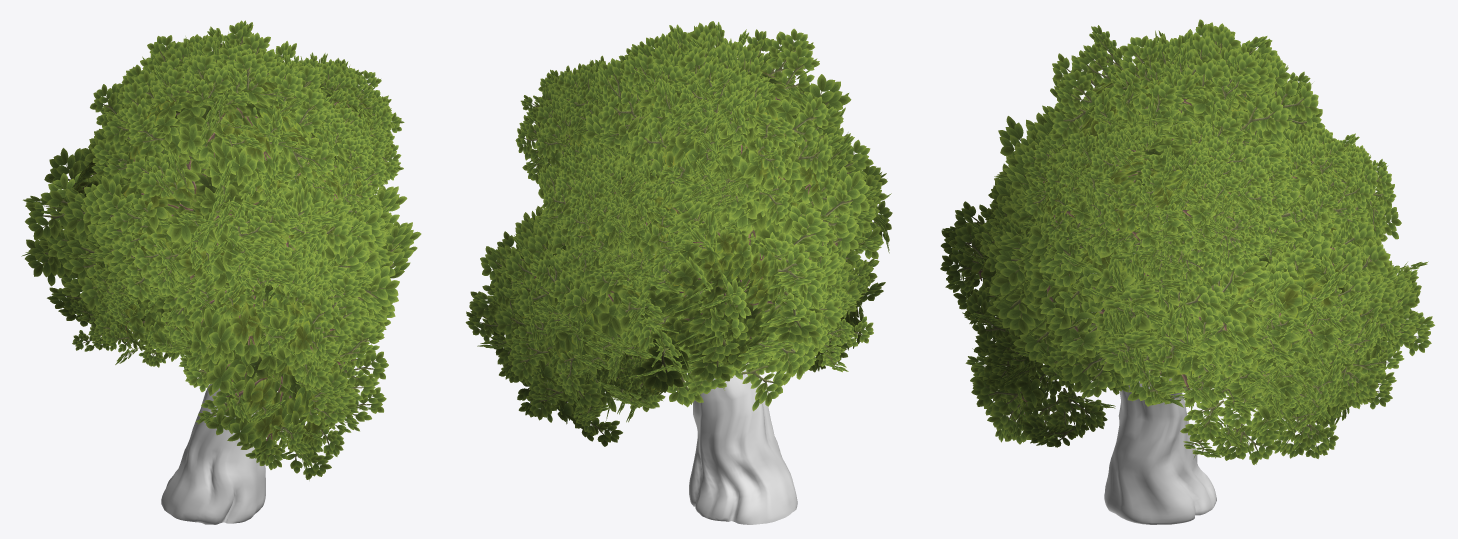
Rendered from SM_Unity_TreeLarge_03.fbx.
3 renders of one model, left to right at view 1: azimuth 30°, elevation 25°; view 2: azimuth 150°, elevation 25°; view 3: azimuth 270°, elevation 25°, orthographic. The views are drawn at different scales.
Visible parts, largest first — view 1: Tree03_LOD0; view 2: Tree03_LOD0; view 3: Tree03_LOD0.
Boxes of the visible parts, bbox=[...] form: Tree03_LOD0: bbox=[21, 20, 421, 524]; Tree03_LOD0: bbox=[465, 21, 892, 524]; Tree03_LOD0: bbox=[940, 19, 1434, 524].
Size of what is drawn, in the model's own units: 825 by 1024 by 965.
